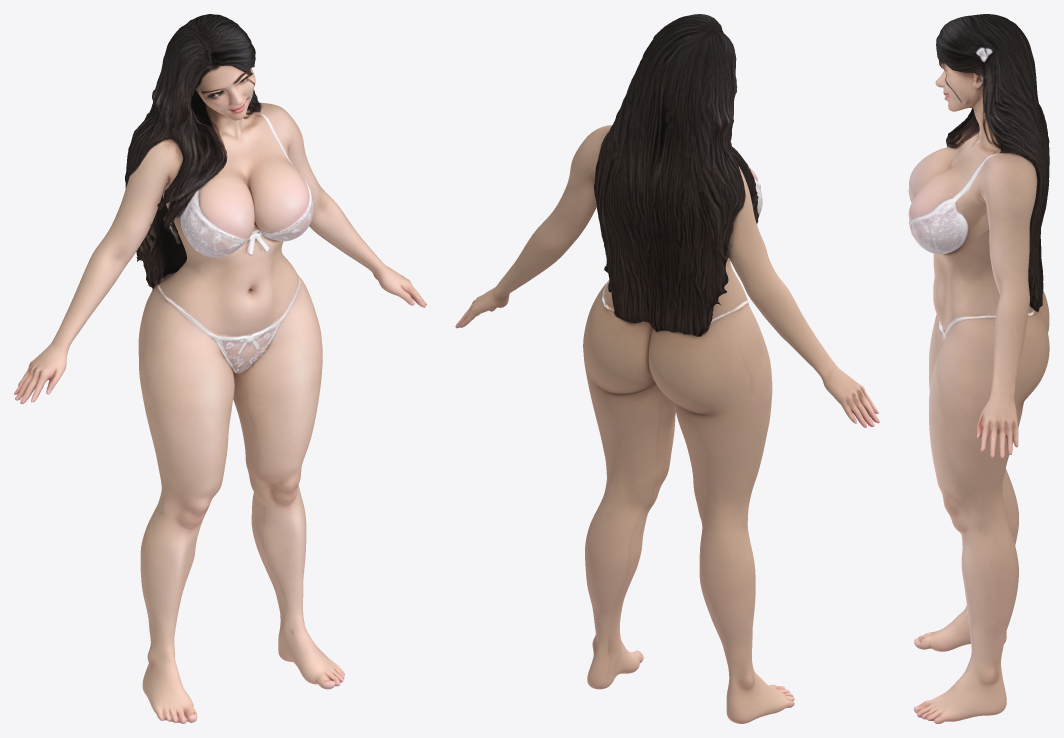
The model's file is base_basic_shaded.glb.
3 renders of one model, left to right at view 1: azimuth 30°, elevation 25°; view 2: azimuth 150°, elevation 25°; view 3: azimuth 270°, elevation 25°, orthographic. The views are drawn at different scales.
Parts seen in each view (by area): view 1: model; view 2: model; view 3: model.
Part boxes in pixels (x1,y1,x2,y2): model: [14, 14, 426, 723]; model: [455, 14, 879, 723]; model: [908, 14, 1049, 723].
Size of the model in its own units: 0.6371 by 1 by 0.1944.
Materials: 1 (1 with a texture image).
